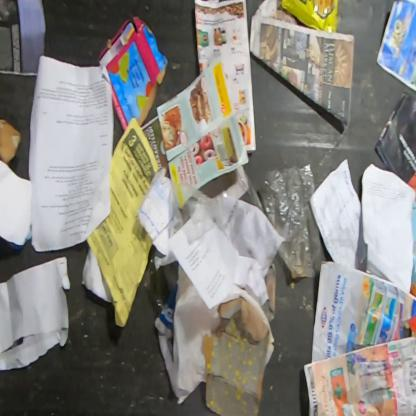cardboard: (200, 296, 271, 415), (97, 15, 168, 132), (280, 0, 340, 34), (406, 170, 416, 298), (0, 117, 23, 167), (261, 261, 278, 322)
soft_plastic: (232, 161, 328, 280), (166, 178, 231, 244), (141, 243, 178, 310)
